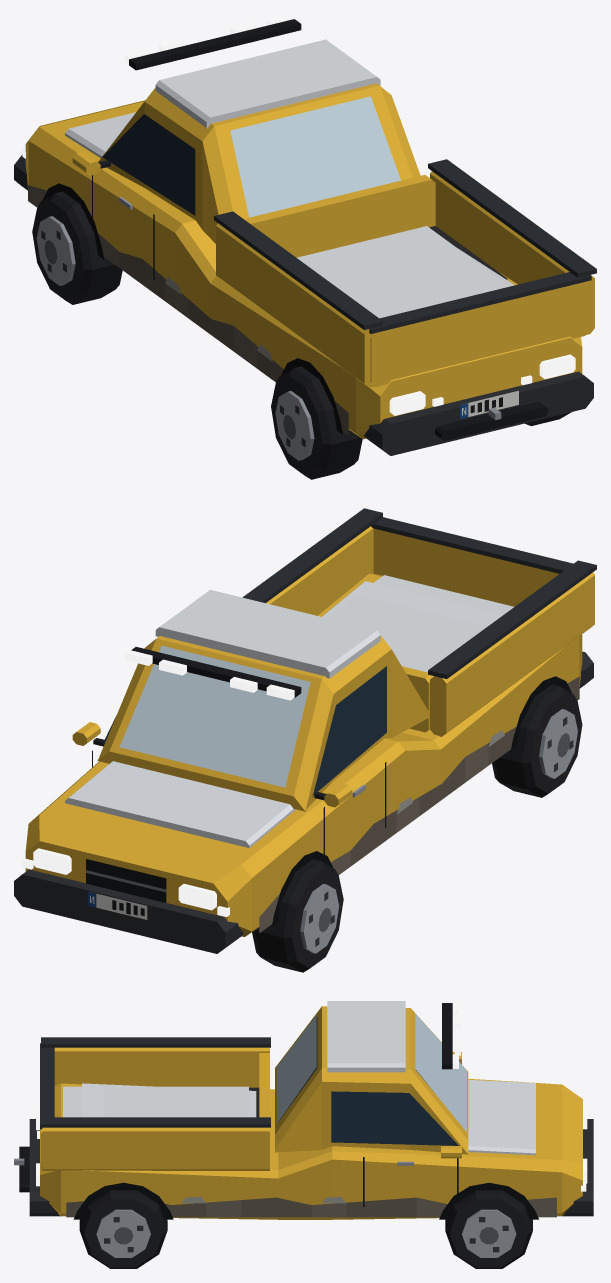
Rendered from pickup.glb.
The picture shows the model from 3 angles, top to bottom: view 1: azimuth 30°, elevation 25°; view 2: azimuth 150°, elevation 25°; view 3: azimuth 270°, elevation 25°; orthographic projection. The views are drawn at different scales.
Parts seen in each view (by area): view 1: body.006, wheel_RL.006, wheel_FL.006; view 2: body.006, wheel_FL.006, wheel_RL.006; view 3: body.006, wheel_RR.006, wheel_FR.006.
Boxes of the visible parts, <box> form: body.006: <box>14,14,596,455</box>; wheel_RL.006: <box>271,366,362,479</box>; wheel_FL.006: <box>32,191,122,304</box>; body.006: <box>14,508,596,953</box>; wheel_FL.006: <box>252,859,343,972</box>; wheel_RL.006: <box>492,684,582,797</box>; body.006: <box>14,1001,593,1219</box>; wheel_RR.006: <box>79,1190,167,1268</box>; wheel_FR.006: <box>445,1190,532,1268</box>.
Bounding box in the file's own units: 2.32 × 2.01 × 5.58.
